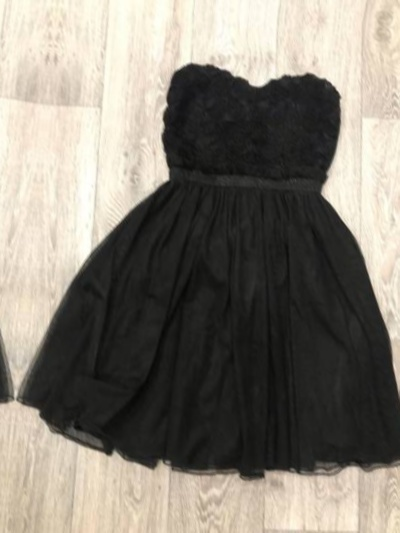Dress: (17, 38, 400, 509), (0, 0, 44, 467)
